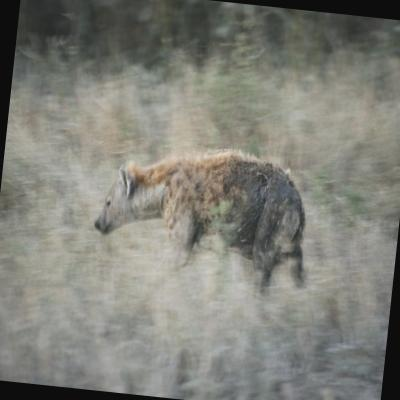hyenas: (66, 89, 322, 331)
